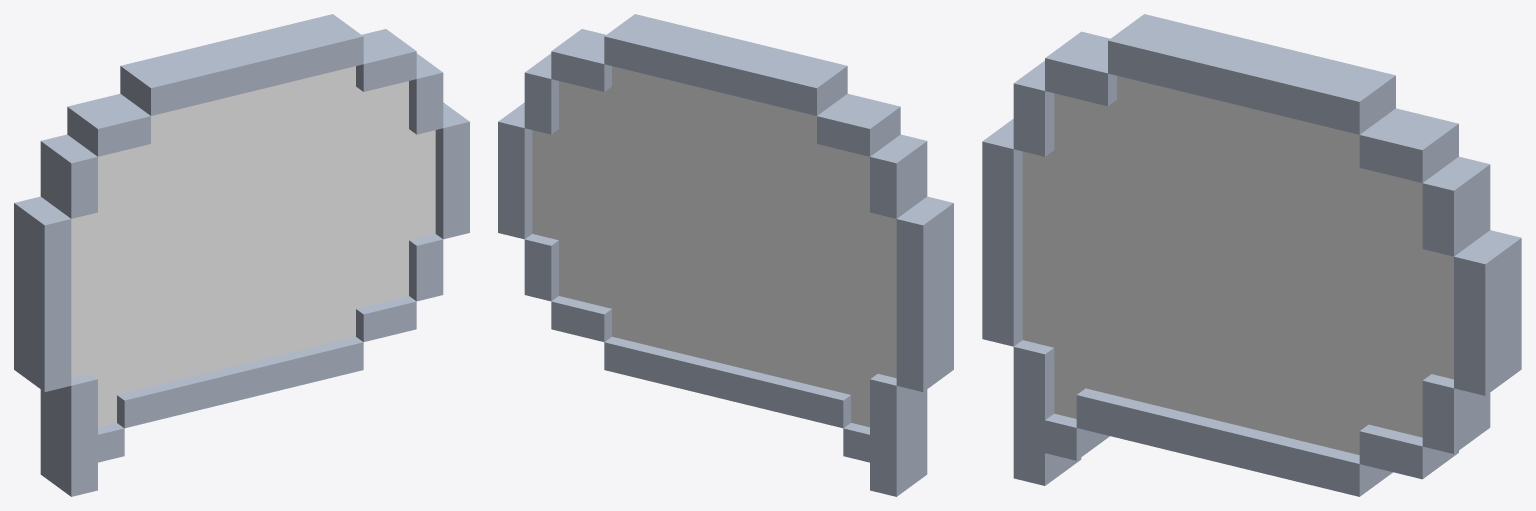
The model's file is dialog_popup.glb.
3 views of the same model, side by side, from view 1: azimuth 30°, elevation 25°; view 2: azimuth 150°, elevation 25°; view 3: azimuth 330°, elevation 25° (orthographic). The views are drawn at different scales.
Visible parts, largest first — view 1: generated(Clone); view 2: generated(Clone); view 3: generated(Clone).
Part boxes in pixels (bbox=[...]): generated(Clone): bbox=[14, 14, 469, 496]; generated(Clone): bbox=[498, 14, 953, 496]; generated(Clone): bbox=[982, 14, 1521, 496].
Bounding box in the file's own units: 16 × 14 × 2.
1 material, 1 textured.
